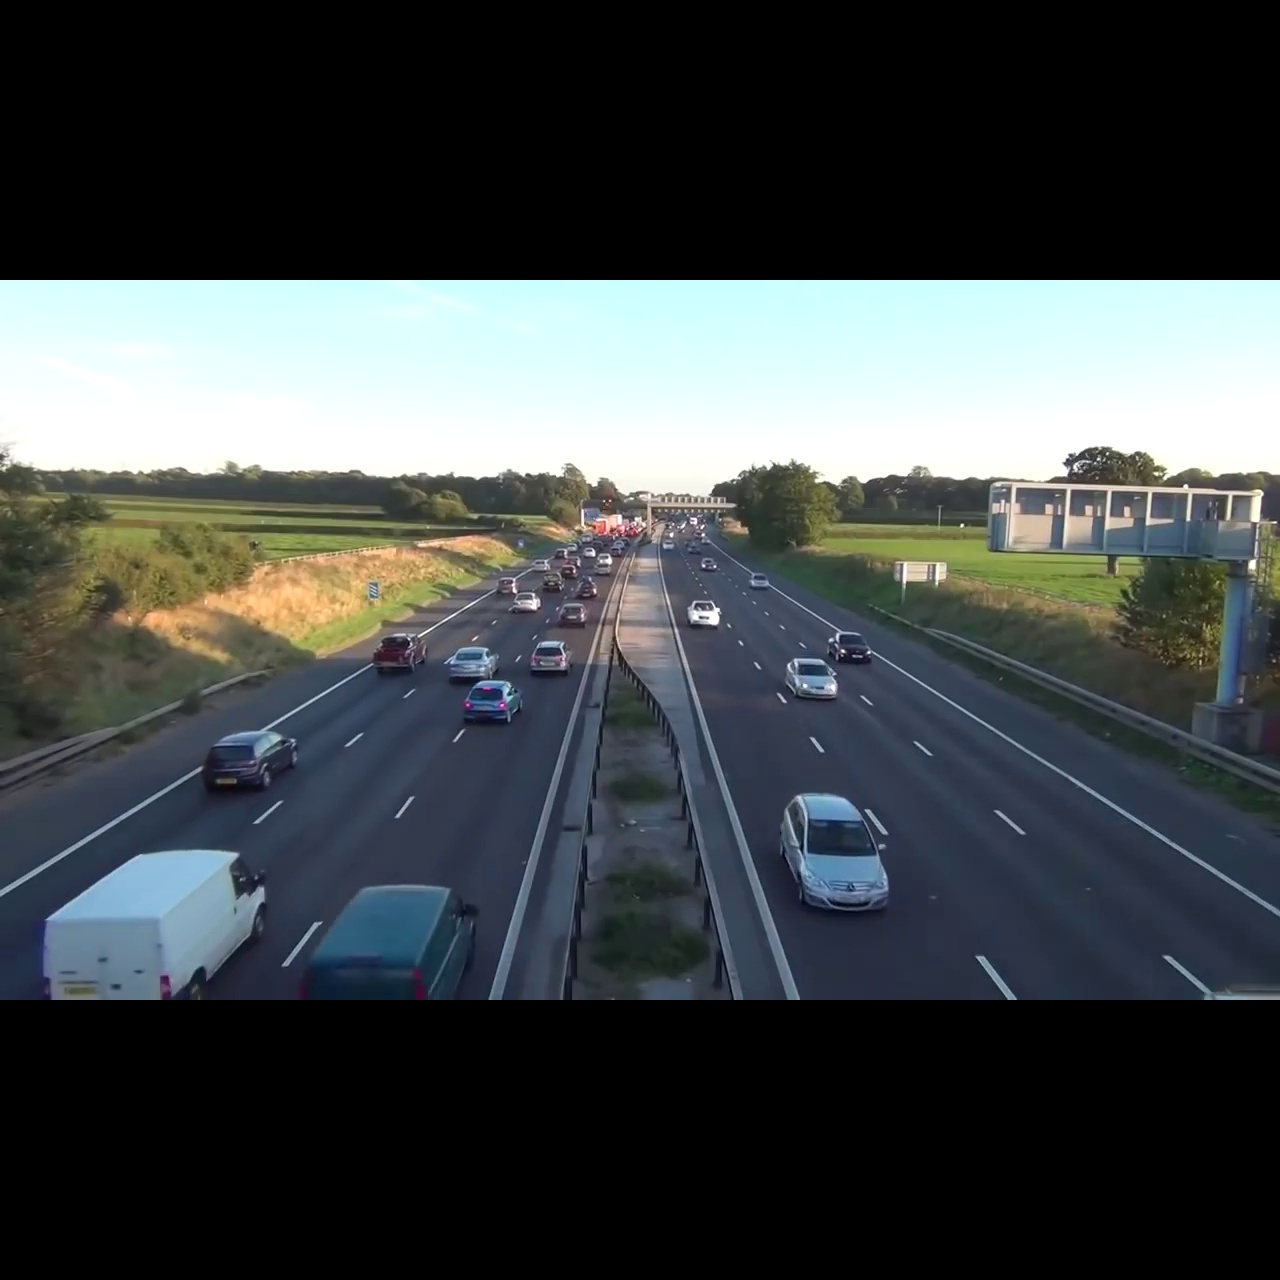vehicle: (38, 842, 274, 1002), (290, 876, 495, 1000), (772, 787, 892, 914), (200, 729, 302, 796), (461, 679, 527, 729), (784, 658, 840, 704), (372, 633, 431, 674), (445, 646, 502, 685), (527, 639, 576, 679), (825, 632, 872, 665), (685, 599, 724, 629), (559, 602, 590, 629), (511, 592, 545, 614), (576, 578, 599, 600), (495, 576, 520, 595), (748, 571, 771, 592), (542, 572, 565, 592), (699, 557, 719, 572)
